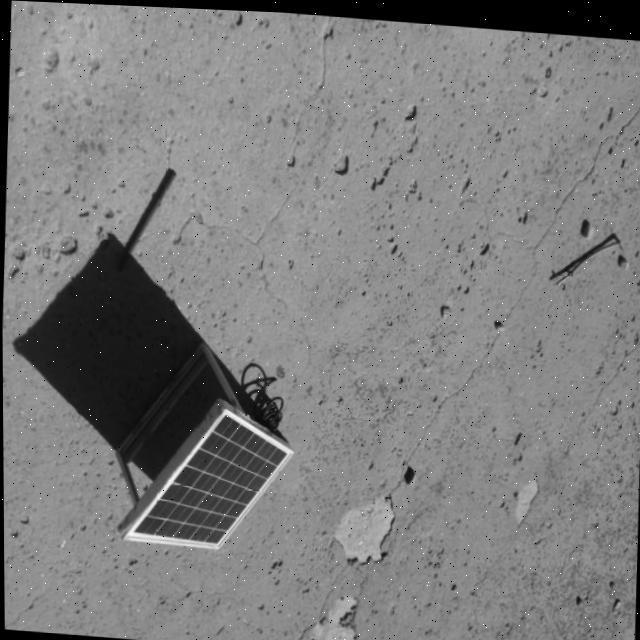Normal Solar Panel: (120, 400, 294, 550)
